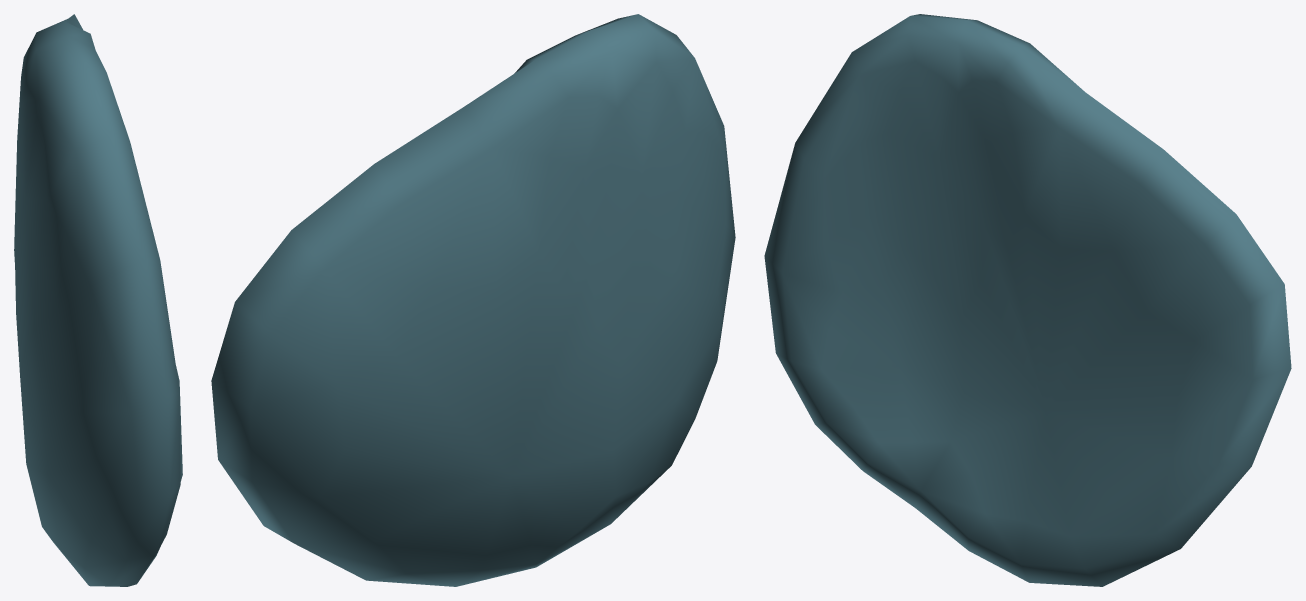
Rendered from Adductor_pollicis_brevis-Insertion.l.001_Generated_Mesh_From_X3.glb.
3 views of the same model, side by side, from view 1: azimuth 30°, elevation 25°; view 2: azimuth 150°, elevation 25°; view 3: azimuth 270°, elevation 25° (orthographic). The views are drawn at different scales.
Parts seen in each view (by area): view 1: Adductor_pollicis_brevis-Insertion.l.001_Generated_Mesh_From; view 2: Adductor_pollicis_brevis-Insertion.l.001_Generated_Mesh_From; view 3: Adductor_pollicis_brevis-Insertion.l.001_Generated_Mesh_From.
Part boxes in pixels (left/top/right/bottom): Adductor_pollicis_brevis-Insertion.l.001_Generated_Mesh_From: left=14, top=14, right=182, bottom=586; Adductor_pollicis_brevis-Insertion.l.001_Generated_Mesh_From: left=211, top=14, right=735, bottom=586; Adductor_pollicis_brevis-Insertion.l.001_Generated_Mesh_From: left=764, top=14, right=1291, bottom=586.
Bounding box in the file's own units: 0.00215 × 0.00401 × 0.00375.
